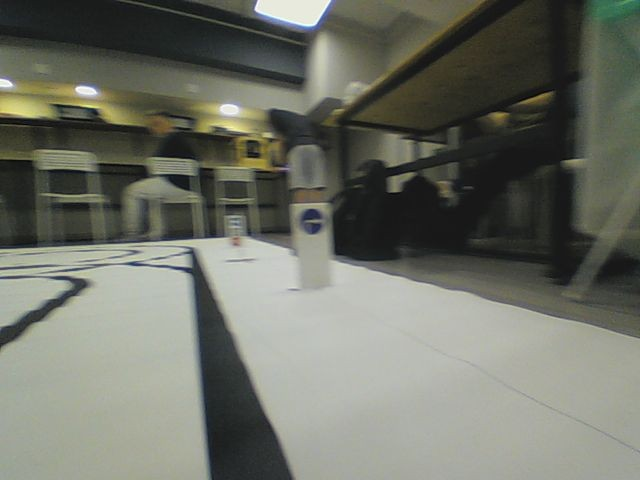Right: (299, 207, 326, 235)
